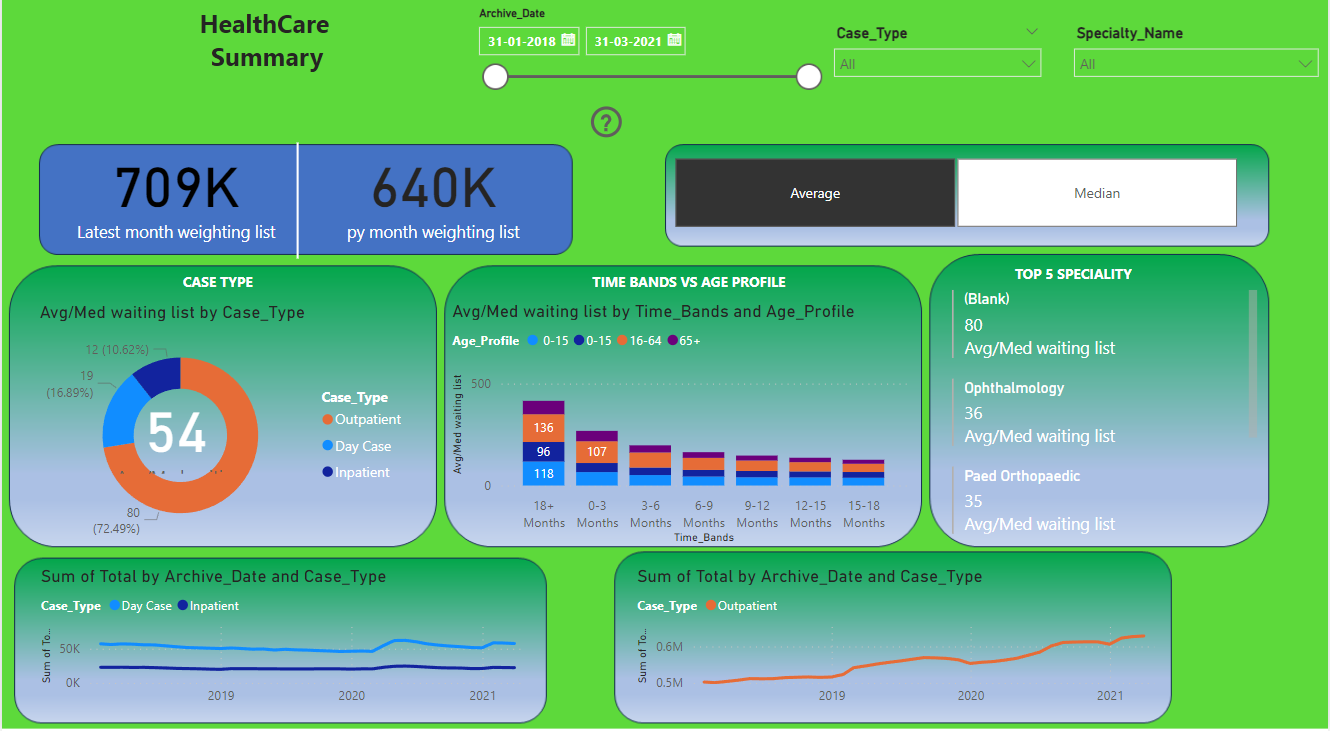

This screenshot's page, from the dashboard's own definition file:
{"tool":"powerbi","page":{"name":"Dashboard","canvas":[1280,720],"ordinal":0},"visuals":[{"type":"card","fields":{"Values":["Patient_data.Latest month weighting list"]},"box":[48,144,240,112],"z":0},{"type":"card","fields":{"Values":["Patient_data.py month weighting list"]},"box":[288,144,256,112],"z":1000},{"type":"slicer","fields":{"Values":["Table.Calculation Method"]},"box":[624,160,592,80],"z":2000},{"type":"donutChart","fields":{"Category":["Patient_data.Case_Type"],"Y":["Patient_data.Avg/Med"]},"box":[31.4,305.1,367.8,240],"z":3000},{"type":"columnChart","fields":{"Category":["Patient_data.Time_Bands"],"Y":["Patient_data.Avg/Med waiting list"],"Series":["Patient_data.Age_Profile"]},"box":[429.3,303.9,448.6,240],"z":4000},{"type":"multiRowCard","fields":{"Values":["Patient_data.Specialty_Name","Patient_data.Avg/Med waiting list"]},"box":[911.8,289.4,303.9,255.7],"z":5000},{"type":"card","fields":{"Values":["Patient_data.No selection Right"]},"box":[663.3,592.2,384.7,48.2],"z":6000},{"type":"lineChart","fields":{"Category":["Patient_data.Archive_Date"],"Y":["Sum(Patient_data.Total)"],"Series":["Patient_data.Case_Type"]},"box":[32,560,480,144],"z":7000},{"type":"card","fields":{"Values":["Patient_data.No selection"]},"box":[72.4,559.6,384.7,48.2],"z":8000},{"type":"lineChart","fields":{"Category":["Patient_data.Archive_Date"],"Y":["Sum(Patient_data.Total)"],"Series":["Patient_data.Case_Type"]},"box":[608,560,512,144],"z":9000},{"type":"slicer","fields":{"Values":["Patient_data.Archive_Date"]},"box":[448,16,352,128],"z":10000},{"type":"slicer","fields":{"Values":["Patient_data.Case_Type"]},"box":[792.4,32.6,220.7,79],"z":11000},{"type":"textbox","box":[144,16,240,112],"z":12000},{"type":"slicer","fields":{"Values":["Patient_data.Specialty_Name"]},"box":[1024,32,256,80],"z":13000},{"type":"card","fields":{"Values":["Patient_data.Avg/Med waiting list"]},"box":[103.7,395.6,127.8,80.8],"z":14000},{"type":"shape","box":[215.9,152,138.7,112.2],"z":15000},{"type":"textbox","box":[447.4,272.6,430.6,31.4],"z":16000},{"type":"textbox","box":[863.5,264.1,340.1,39.8],"z":17000},{"type":"textbox","box":[32.6,272.6,351,31.4],"z":18000},{"type":"actionButton","box":[563.2,112.2,100.1,39.8],"z":19000}]}

Visuals, with their boxes in screenshot pixels (x1, y1, x2, y2), scaled from the page's 1280x720 canvas onto the 1330x731 screenshot:
card - Patient_data.Latest month weighting list: 50 146 299 260
card - Patient_data.py month weighting list: 299 146 565 260
slicer - Table.Calculation Method: 648 162 1264 244
donutChart - Patient_data.Case_Type x Patient_data.Avg/Med: 33 310 415 553
columnChart - Patient_data.Time_Bands x Patient_data.Avg/Med waiting list: 446 309 912 552
multiRowCard - Patient_data.Specialty_Name x Patient_data.Avg/Med waiting list: 947 294 1263 553
card - Patient_data.No selection Right: 689 601 1089 650
lineChart - Patient_data.Archive_Date x Sum(Patient_data.Total): 33 569 532 715
card - Patient_data.No selection: 75 568 475 617
lineChart - Patient_data.Archive_Date x Sum(Patient_data.Total): 632 569 1164 715
slicer - Patient_data.Archive_Date: 466 16 831 146
slicer - Patient_data.Case_Type: 823 33 1053 113
textbox: 150 16 399 130
slicer - Patient_data.Specialty_Name: 1064 32 1329 114
card - Patient_data.Avg/Med waiting list: 108 402 241 484
shape: 224 154 368 268
textbox: 465 277 912 309
textbox: 897 268 1251 309
textbox: 34 277 399 309
actionButton: 585 114 689 154
